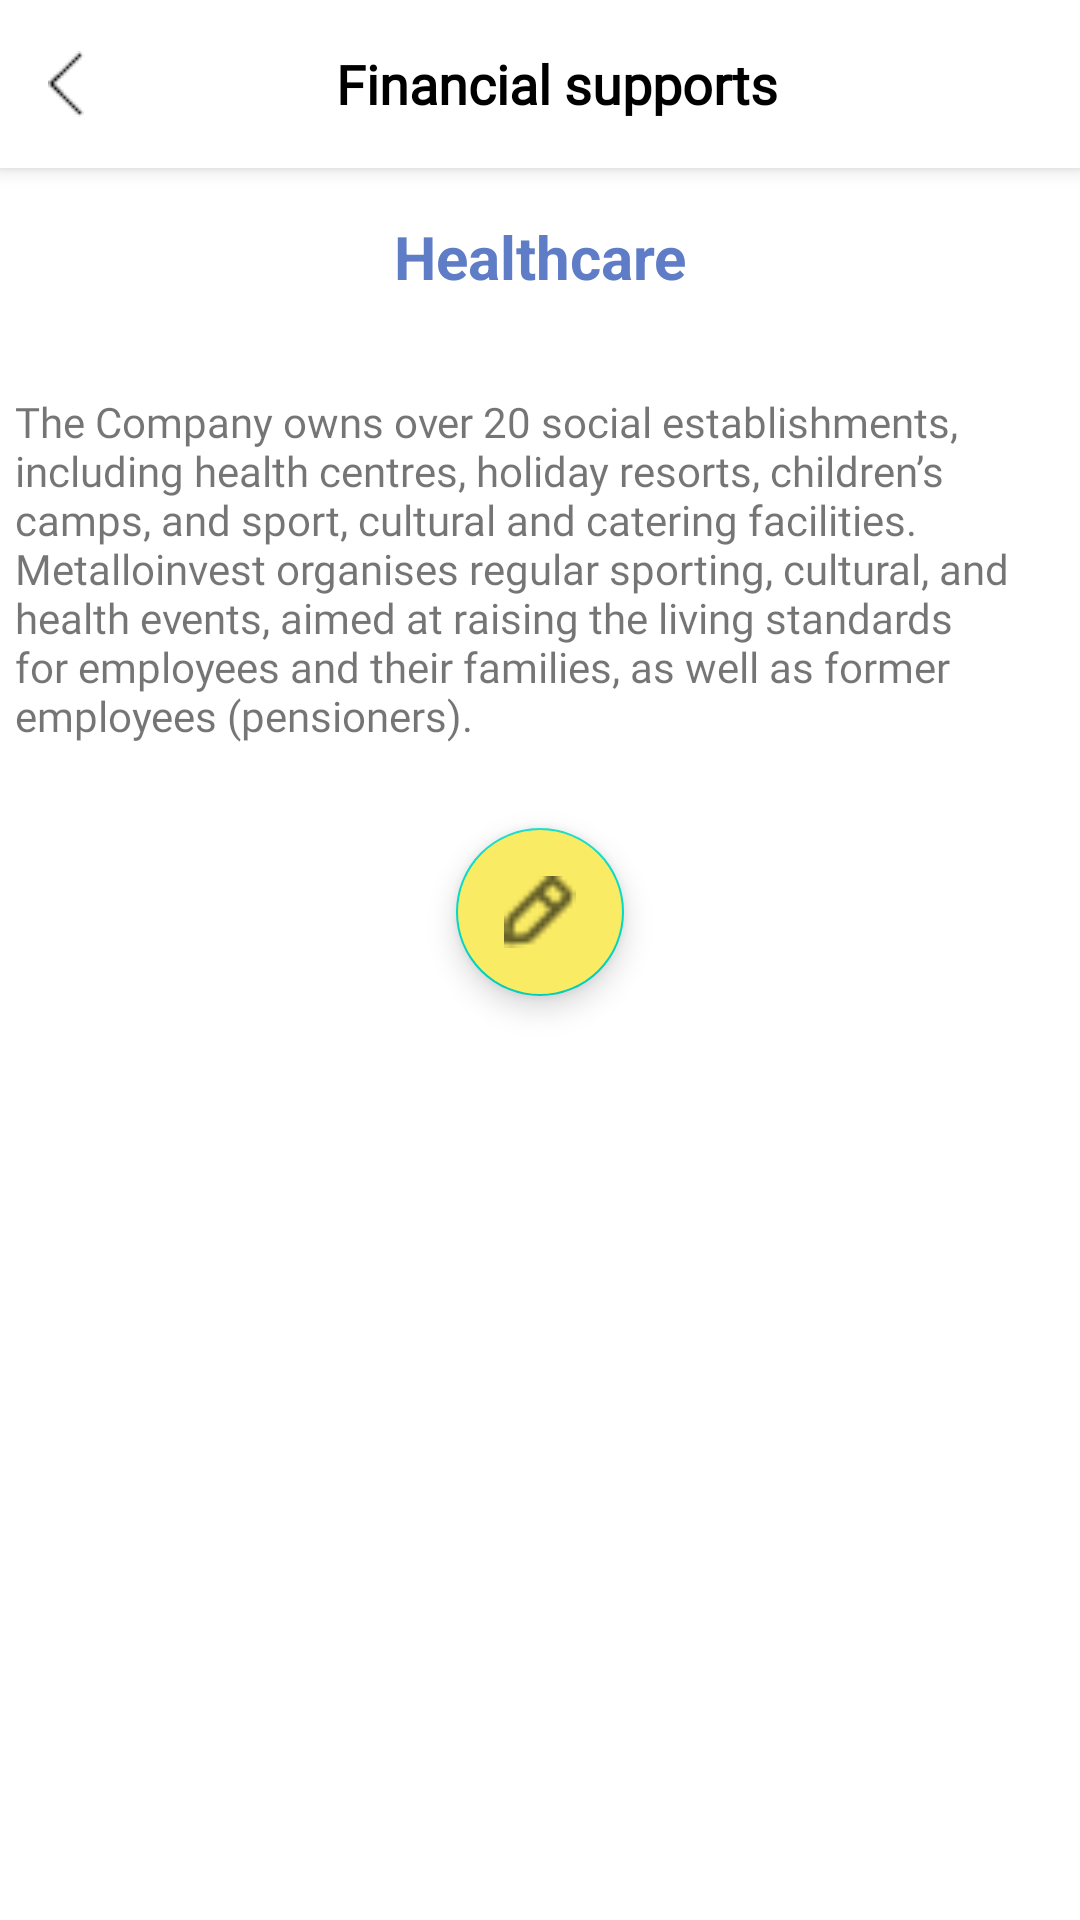

Icon click points for this 1080 x 1920 phone screenshot, format point (x, y):
back: point (66, 83)
edit: point (540, 912)
